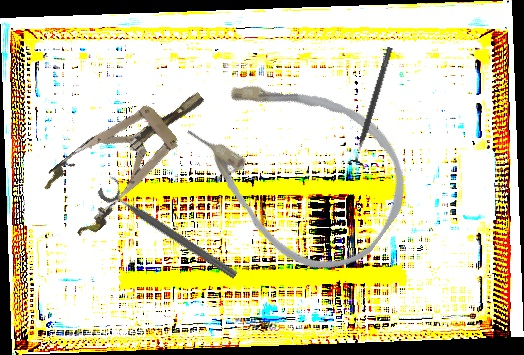Cannula: (162, 37, 433, 296)
Fixation Ring: (95, 173, 246, 283), (346, 44, 400, 170)
Speculum: (36, 67, 226, 242)
